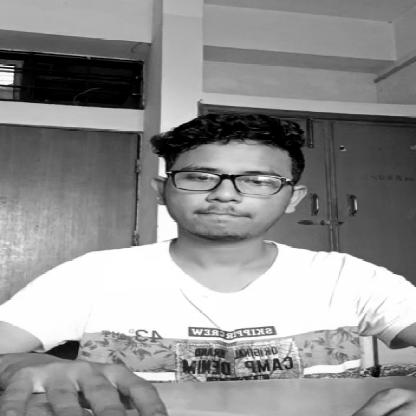Normal: (158, 107, 310, 247)
